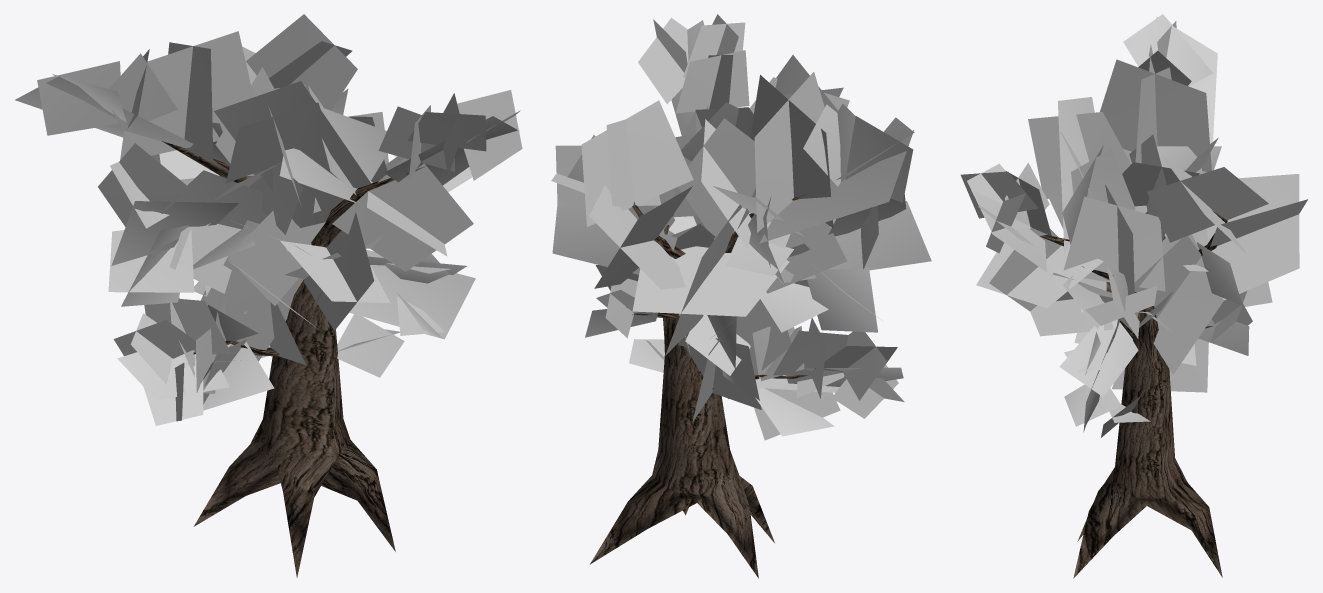
File: Oak_02.fbx
3 renders of one model, left to right at view 1: azimuth 30°, elevation 25°; view 2: azimuth 150°, elevation 25°; view 3: azimuth 270°, elevation 25°, orthographic. The views are drawn at different scales.
Visible parts, largest first — view 1: oak_02.001; view 2: oak_02.001; view 3: oak_02.001.
Part boxes in pixels (box(x1,y1,x2,y2)): oak_02.001: box(15, 14, 522, 577); oak_02.001: box(551, 14, 931, 578); oak_02.001: box(960, 14, 1307, 578).
Bounding box in the file's own units: 28 × 34.16 × 23.61.
